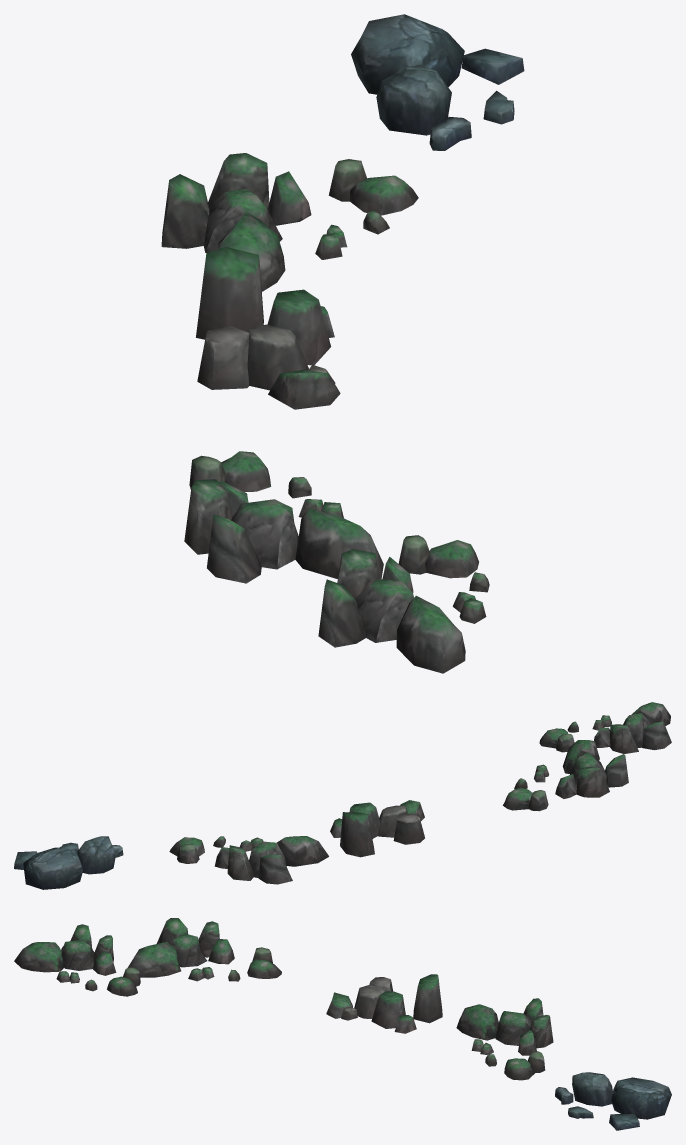
File: Area_06_26.fbx
3 views of the same model, one above another, from view 1: azimuth 30°, elevation 25°; view 2: azimuth 150°, elevation 25°; view 3: azimuth 270°, elevation 25° (orthographic). The views are drawn at different scales.
Visible parts, largest first — view 1: Area_06_26; view 2: Area_06_26; view 3: Area_06_26.
Boxes of the visible parts, x1=… form: Area_06_26: x1=161, y1=14, x2=524, y2=673; Area_06_26: x1=14, y1=702, x2=671, y2=889; Area_06_26: x1=14, y1=918, x2=671, y2=1130.
Size of the model in its own units: 2671 by 251 by 4025.
